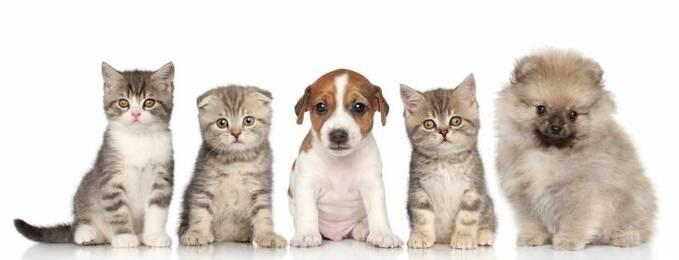cats: (13, 51, 178, 249), (176, 78, 291, 253), (396, 74, 505, 254)
dogs: (491, 42, 669, 256), (286, 61, 403, 250)
